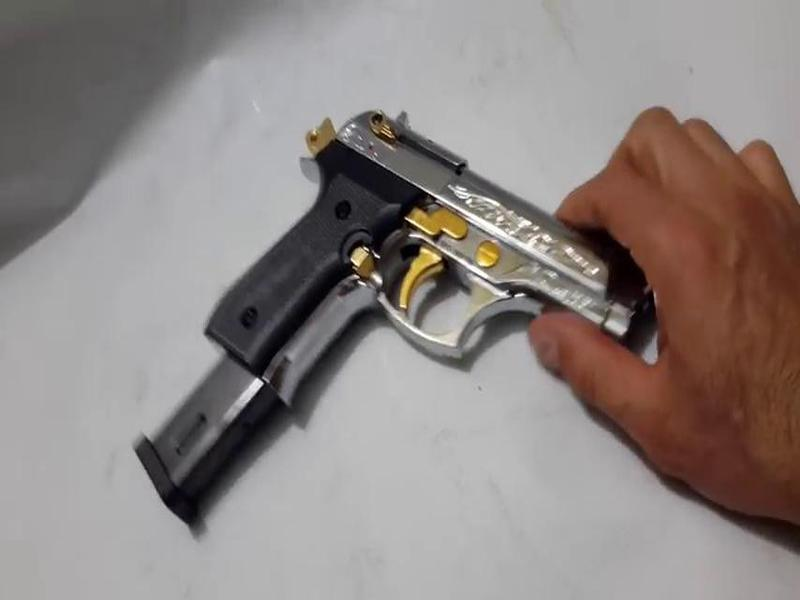Pistola: (212, 102, 673, 413)
